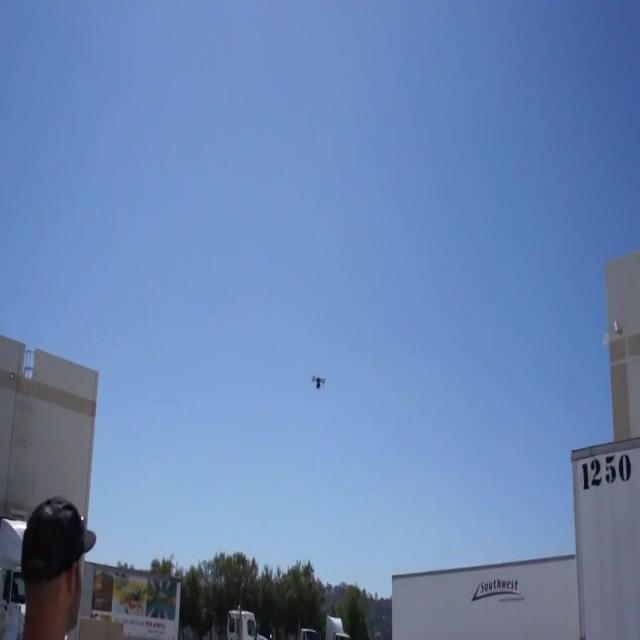UAV: (312, 376, 326, 389)
